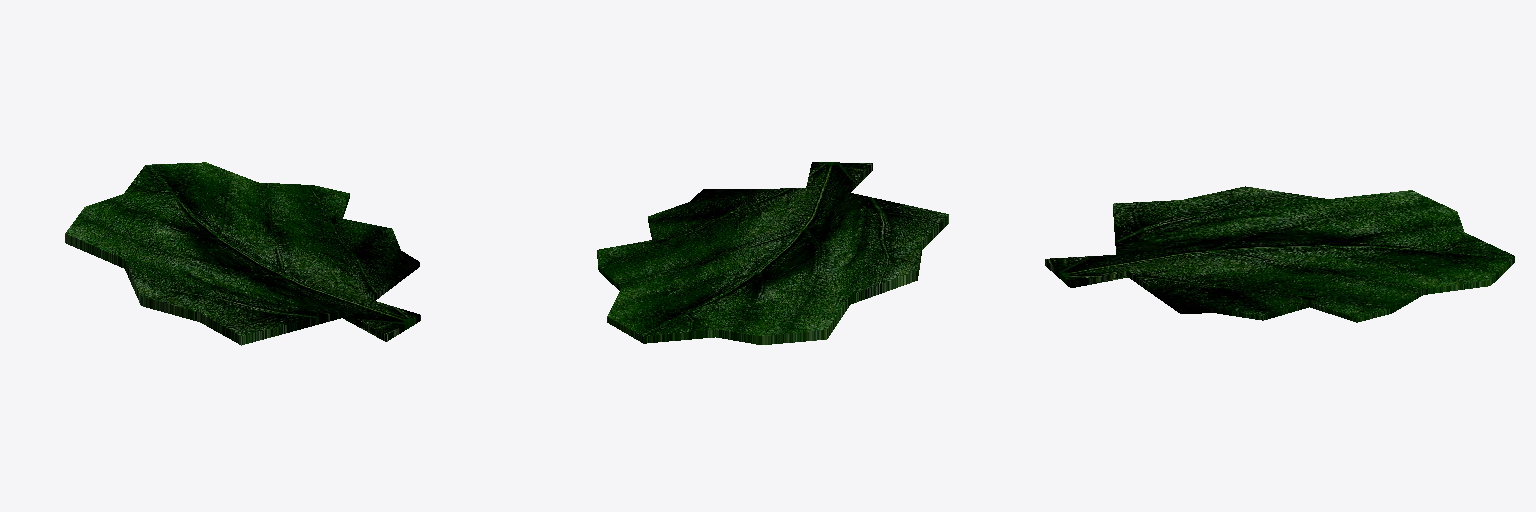
The picture shows the model from 3 angles: view 1: azimuth 30°, elevation 25°; view 2: azimuth 150°, elevation 25°; view 3: azimuth 270°, elevation 25°; orthographic projection.
Parts seen in each view (by area): view 1: Box; view 2: Box; view 3: Box.
Part boxes in pixels (bbox=[...]): Box: bbox=[65, 162, 420, 345]; Box: bbox=[597, 162, 948, 344]; Box: bbox=[1045, 186, 1514, 322].
Size of the model in its own units: 0.9373 by 0.0337 by 1.44.
Materials: 1 (1 with a texture image).